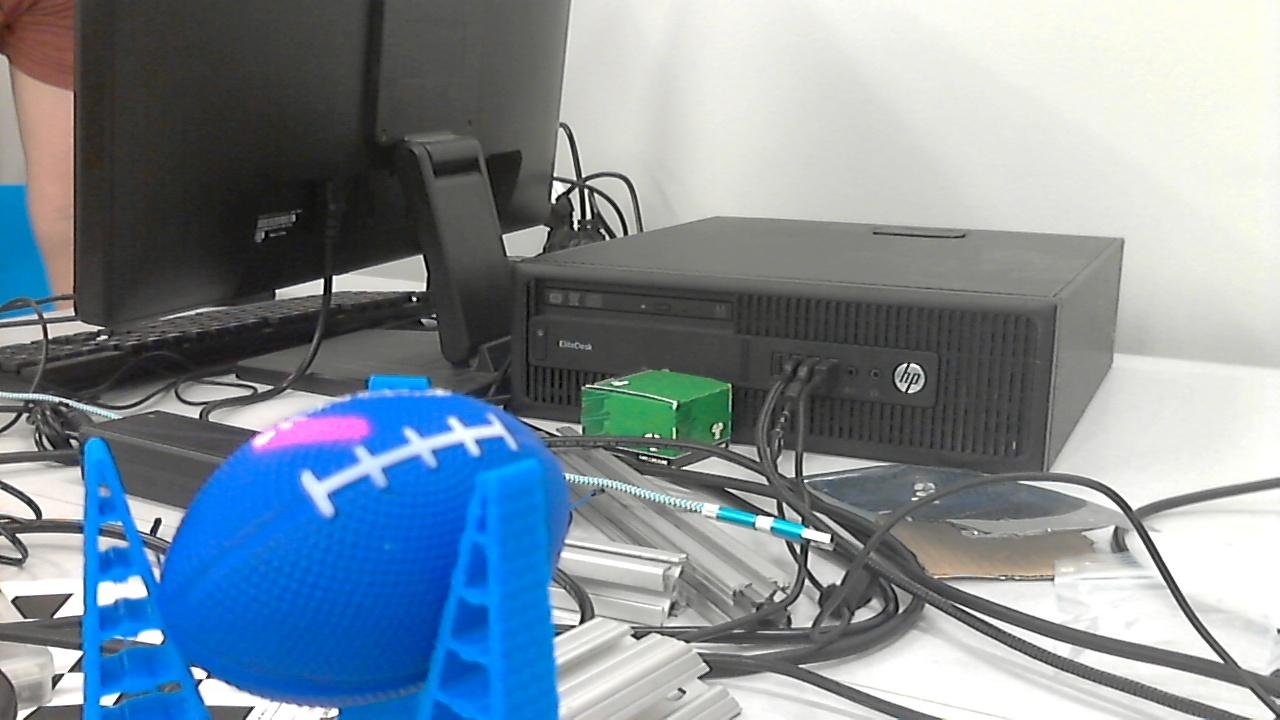Object toy football - Material foam - Color blue - Pdfname VT1ffZoLOnKv: (248, 408, 383, 452)
